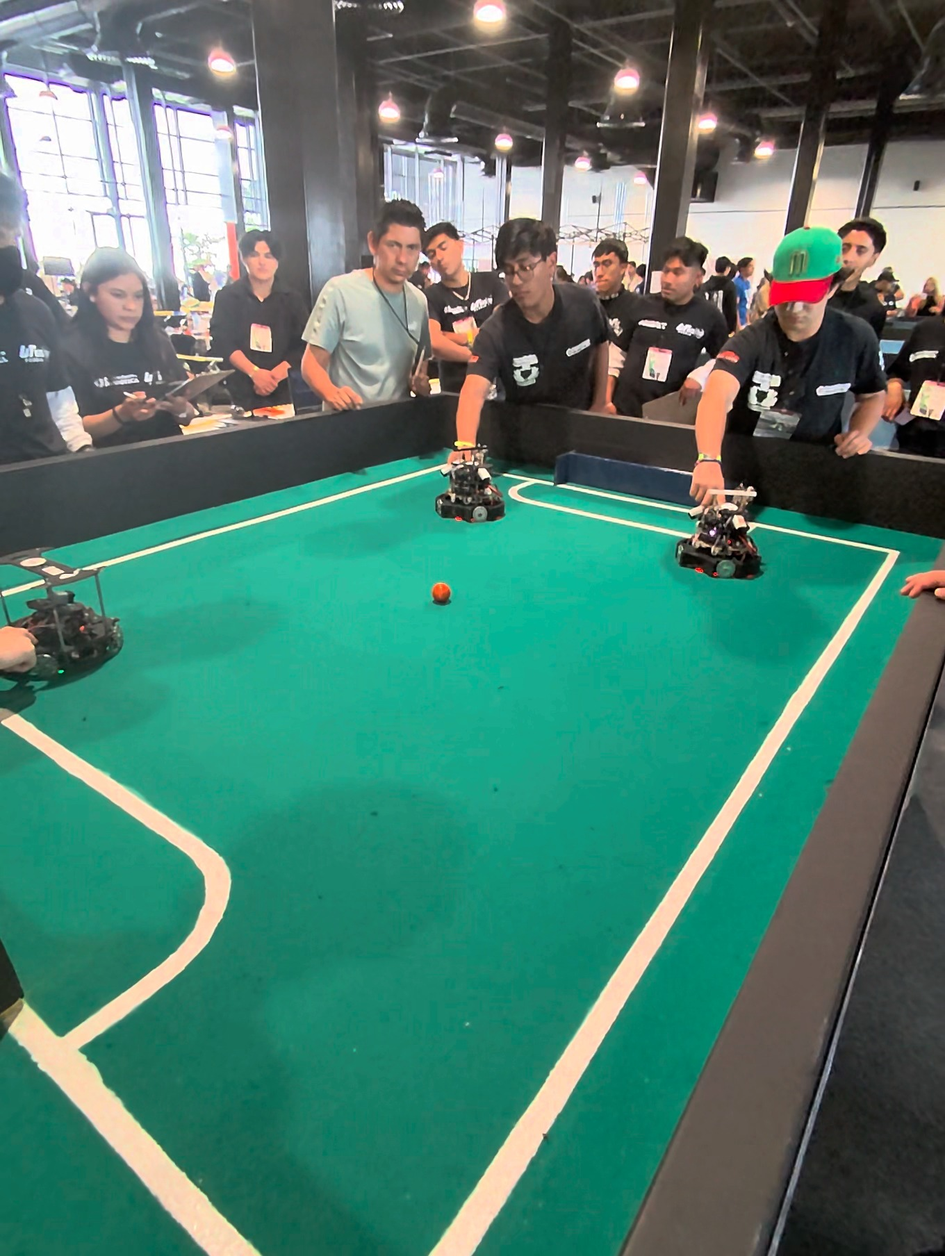Robot: (22, 554, 128, 688), (678, 483, 768, 588), (0, 547, 44, 712), (435, 439, 506, 528)
pelota: (431, 580, 449, 601)
